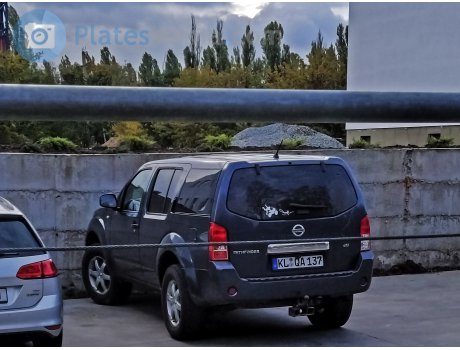License Plates: (276, 251, 323, 269)
